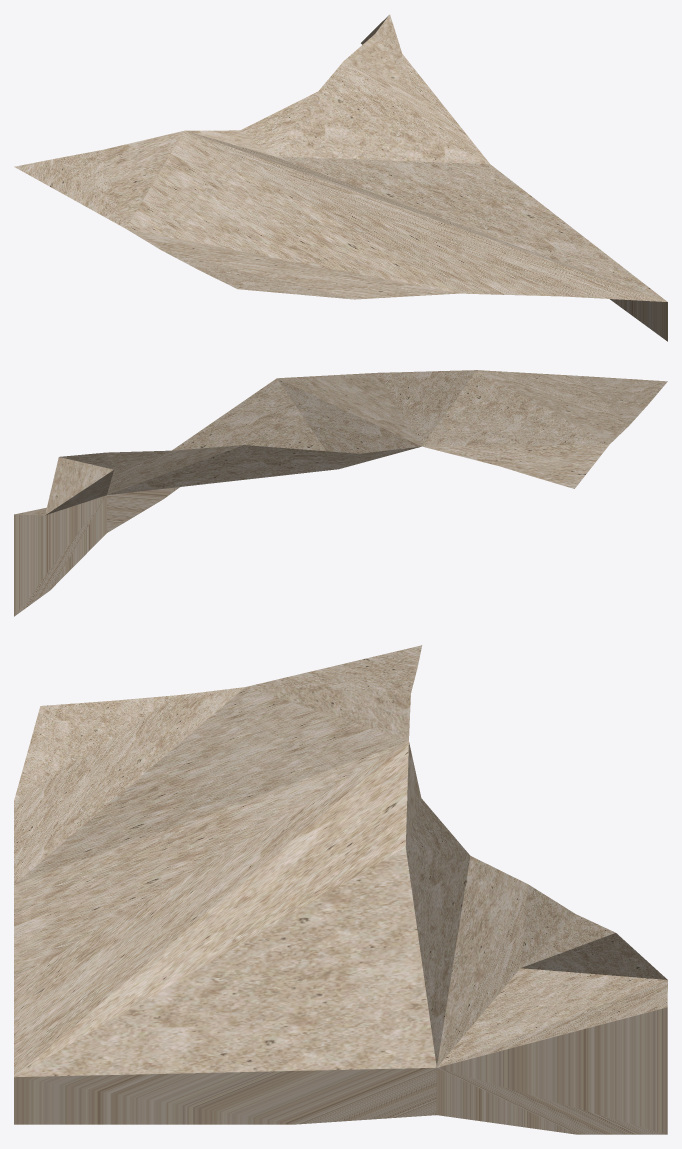
File: lodseabed072.obj
3 views of the same model, one above another, from view 1: azimuth 30°, elevation 25°; view 2: azimuth 150°, elevation 25°; view 3: azimuth 270°, elevation 25° (orthographic). The views are drawn at different scales.
Visible parts, largest first — view 1: lodseabed072; view 2: lodseabed072; view 3: lodseabed072.
Boxes of the visible parts, x1=… form: lodseabed072: x1=14, y1=14, x2=667, y2=341; lodseabed072: x1=14, y1=370, x2=667, y2=616; lodseabed072: x1=14, y1=645, x2=667, y2=1134.
Bounding box in the file's own units: 211 × 73.63 × 208.
